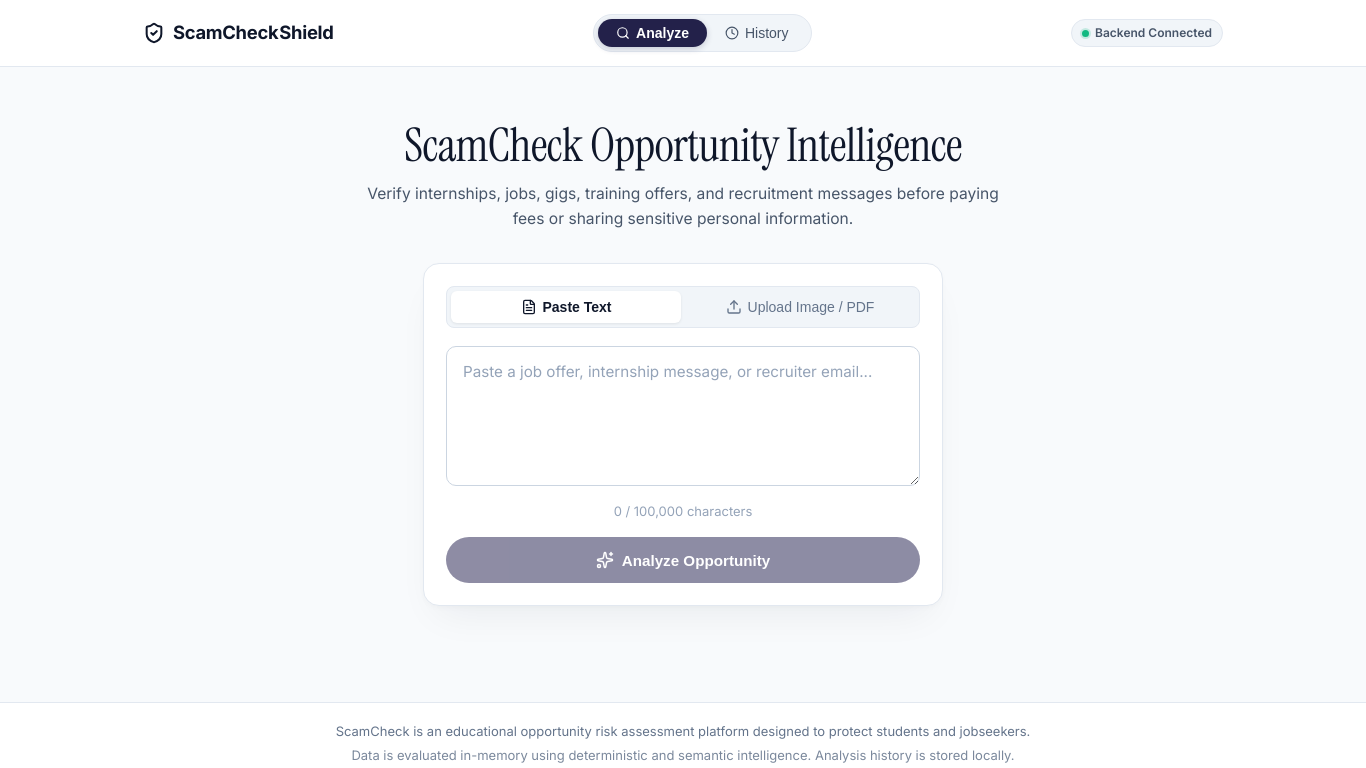
ScamCheck Frontend End-to-End Unit & Integration Test Suite › 10. renders structured error alert when backend returns validation error
Step 1. Type "Bad input" into the text box with placeholder "Paste a job offer" → (683, 416), box [446,346,920,486]
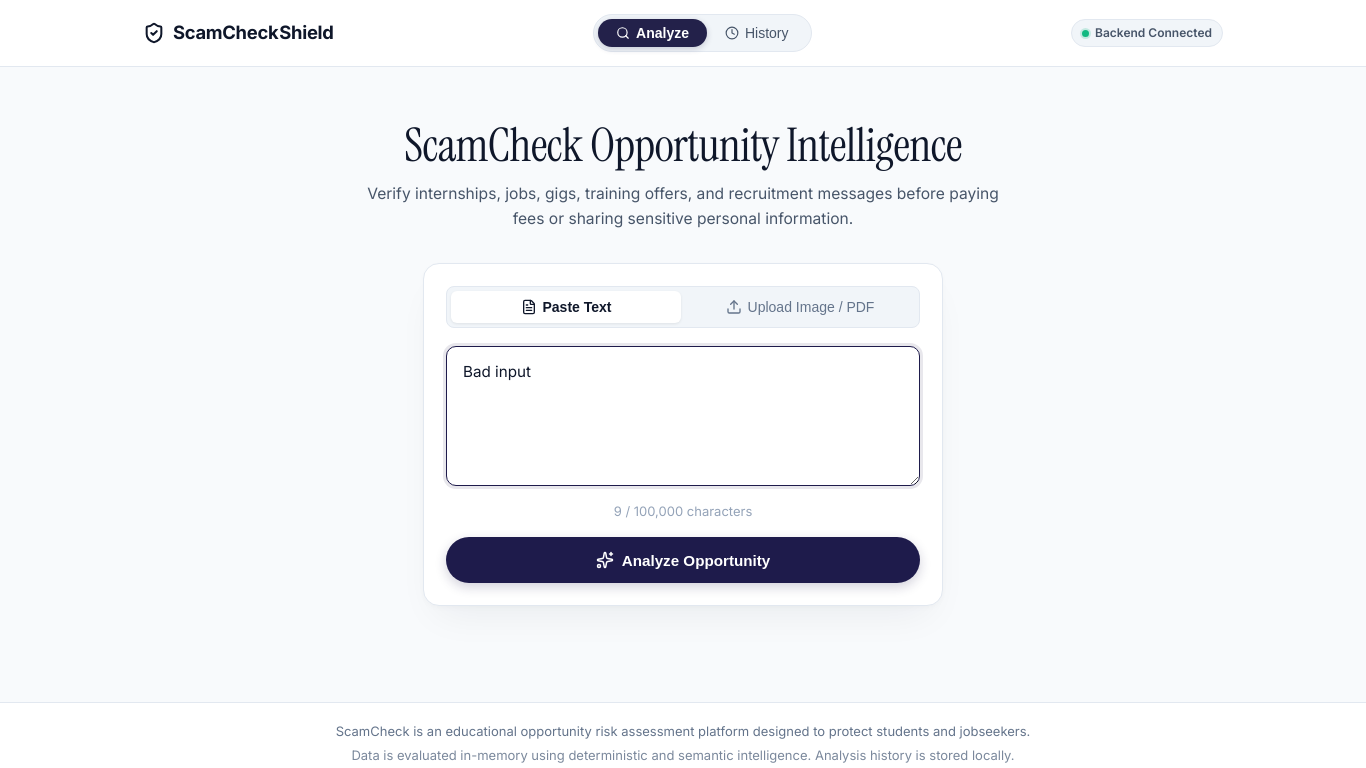
Step 2. Click the button "Analyze Opportunity" → (683, 560), box [446,537,920,583]
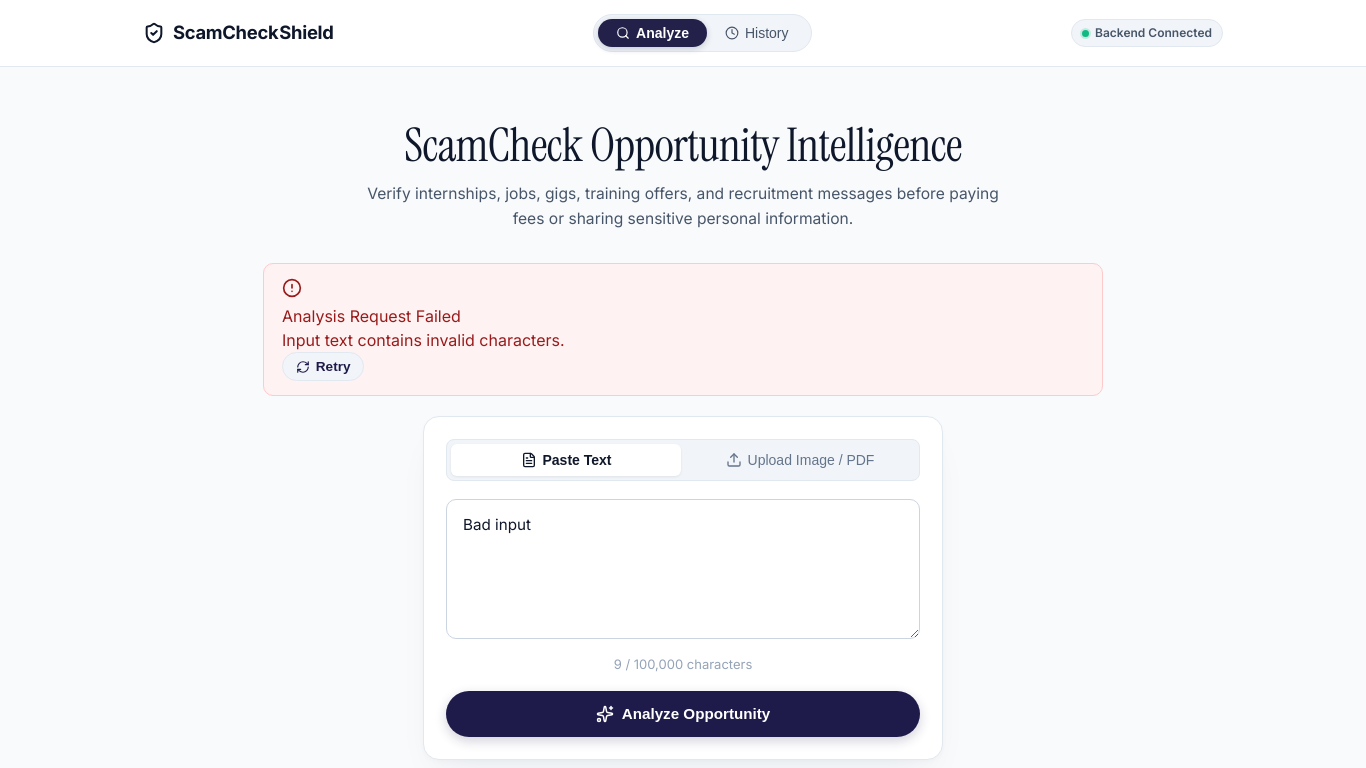
Expected: the message "Analysis Request Failed Input text contains invalid characters. Retry" is shown, [263,263,1103,396]
Expected: the text "Input text contains invalid characters." is shown, [282,330,565,350]
